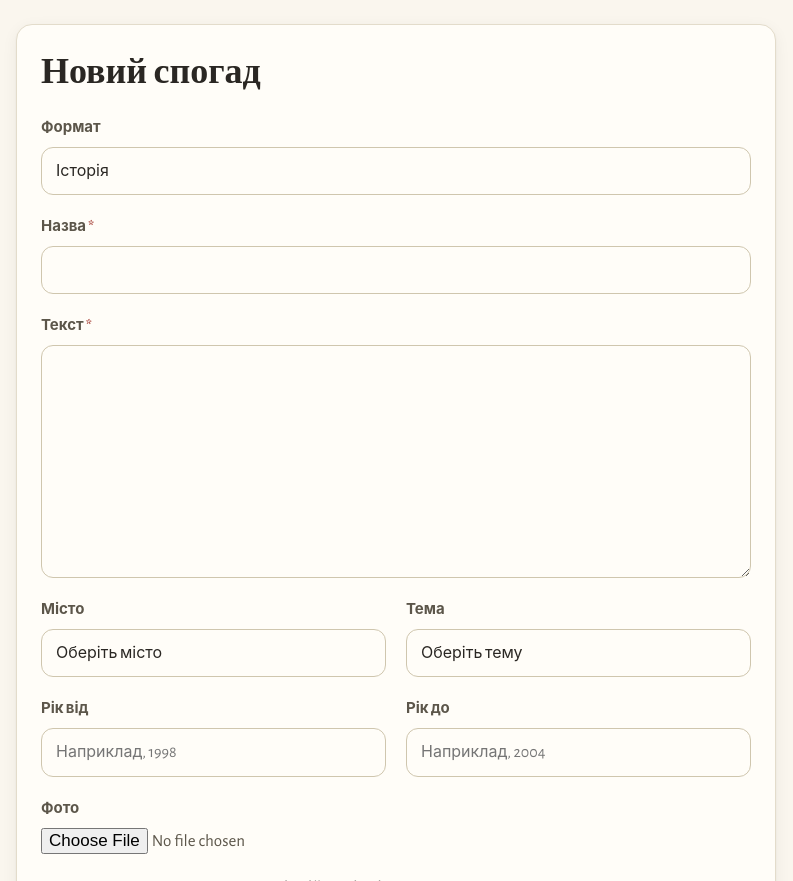
MemoryFormPage › blocks submission with an inline message when yearTo is before yearFrom
The image size is (793, 881).
Type "Спогад" into the field labelled "Назва *" at (396, 270), box [41, 246, 751, 294]
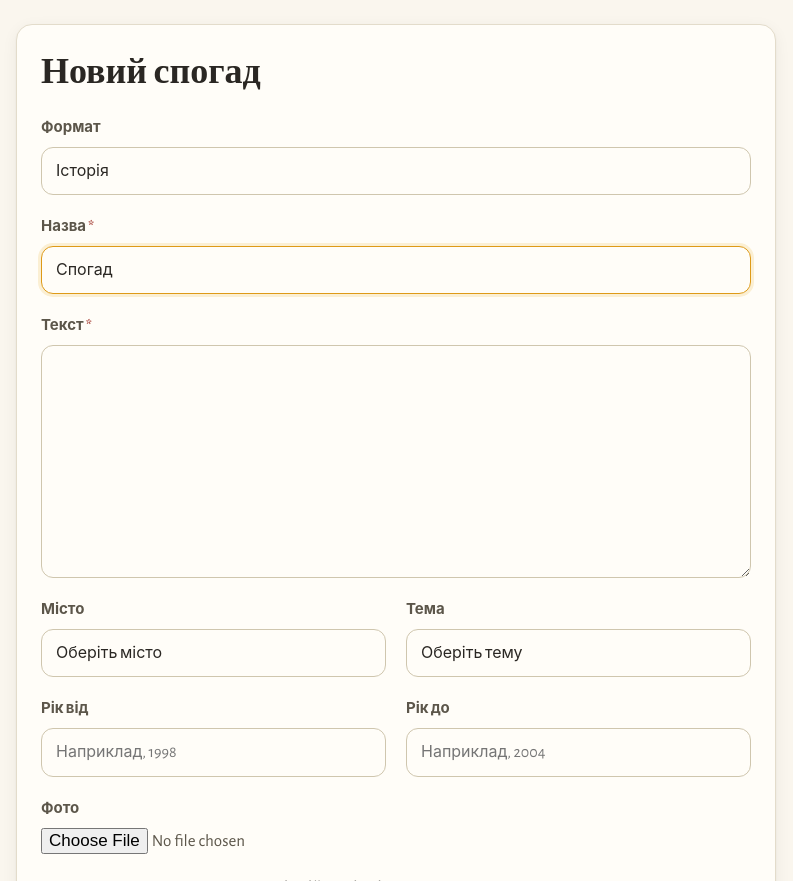
Type "Текст спогаду" into the text box labelled "Текст *" at (396, 462), box [41, 345, 751, 578]
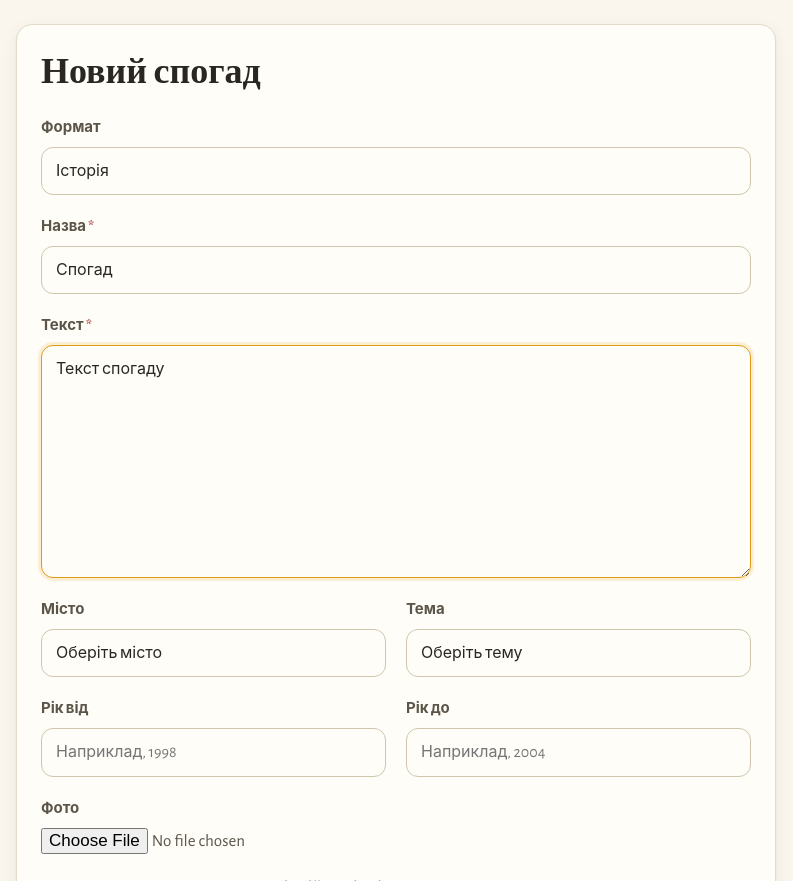
Type "2020" into the field labelled "Рік від" at (214, 752), box [41, 728, 386, 777]
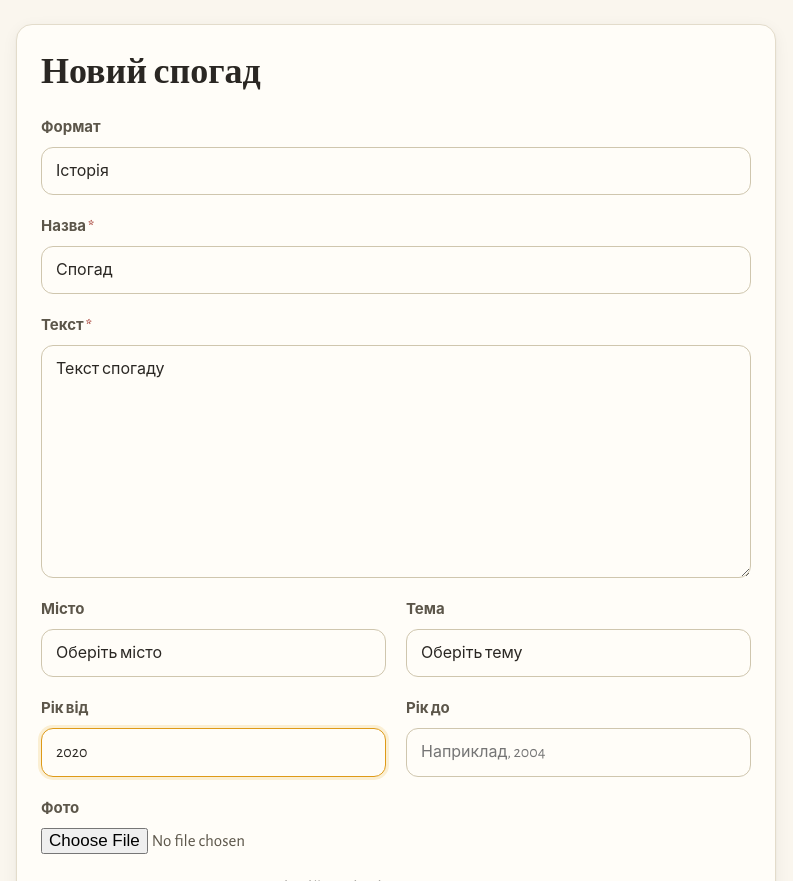
Type "1990" into the field labelled "Рік до" at (578, 752), box [406, 728, 751, 777]
(page scrolled)
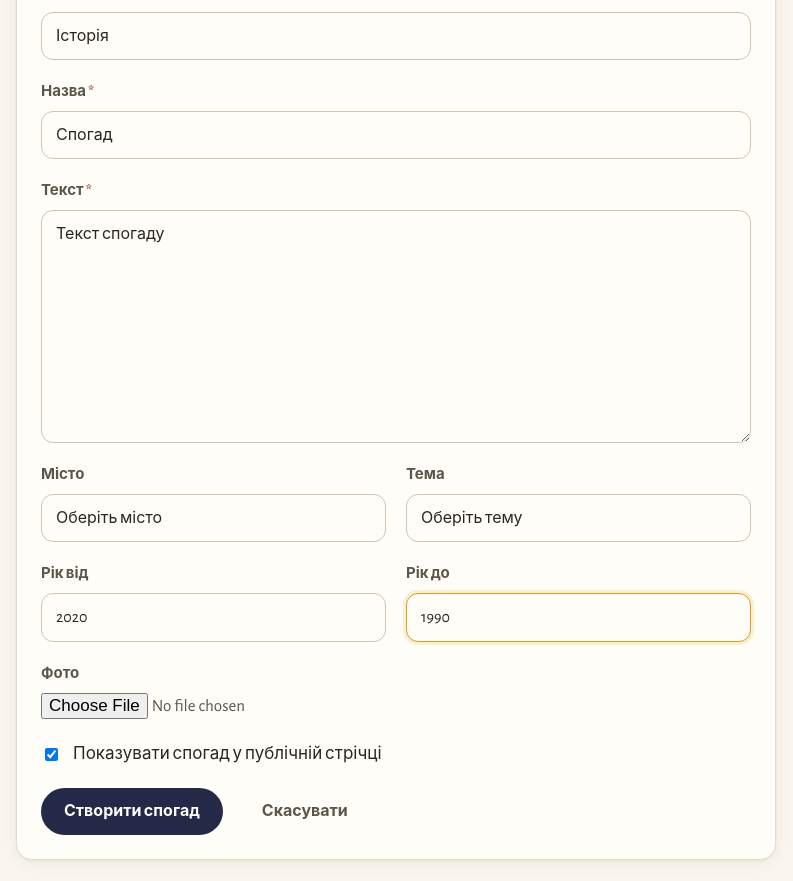
Click the button "Створити спогад" at (132, 812), box [41, 788, 223, 835]
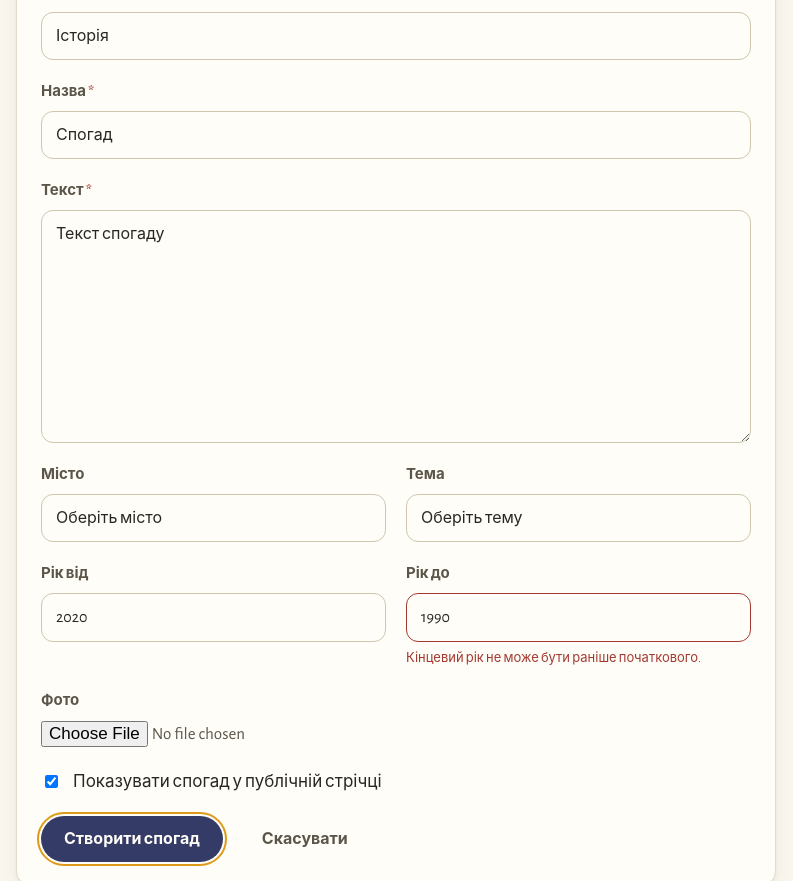
Result: the text "Кінцевий рік не може бути раніше початкового." is shown at [406, 648, 751, 669]
